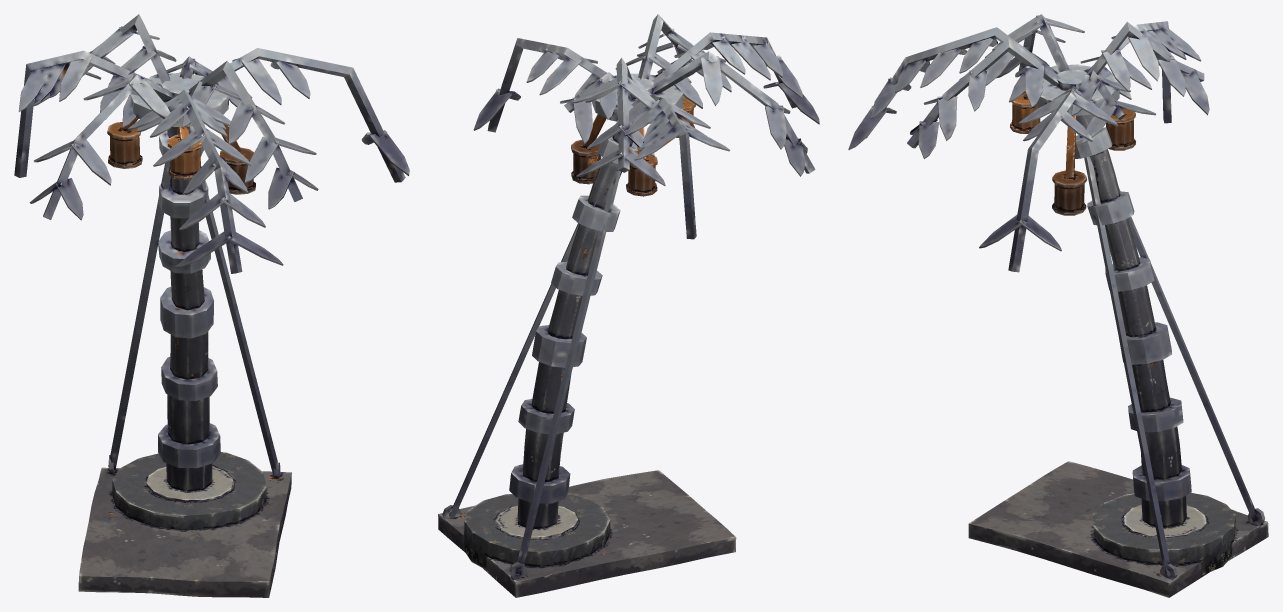
3 views of the same model, side by side, from view 1: azimuth 30°, elevation 25°; view 2: azimuth 150°, elevation 25°; view 3: azimuth 270°, elevation 25° (orthographic). The views are drawn at different scales.
Visible parts, largest first — view 1: Fronds, Footing, Couplings, TyreCollar, Trunk, Cans; view 2: Fronds, Footing, Couplings, Trunk, TyreCollar, Cans; view 3: Fronds, Footing, Couplings, Trunk, TyreCollar, Cans.
Part boxes in pixels (box(x1,y1,x2,y2)): Fronds: box(14, 14, 409, 273); Footing: box(78, 467, 291, 597); Couplings: box(108, 73, 280, 478); TyreCollar: box(112, 452, 266, 530); Trunk: box(166, 126, 212, 491); Cans: box(107, 117, 255, 194); Fronds: box(473, 14, 819, 239); Footing: box(438, 470, 736, 597); Couplings: box(442, 73, 683, 578); Trunk: box(517, 132, 633, 528); TyreCollar: box(463, 493, 610, 569); Cans: box(571, 96, 695, 196); Fronds: box(848, 14, 1209, 272); Footing: box(968, 461, 1268, 597); Couplings: box(1034, 64, 1264, 578); Trunk: box(1076, 114, 1186, 528); TyreCollar: box(1093, 493, 1235, 575); Cans: box(1010, 92, 1135, 215).
Bounding box in the file's own units: 11.07 × 15.84 × 12.11.
Materials: 6 (6 with a texture image).
